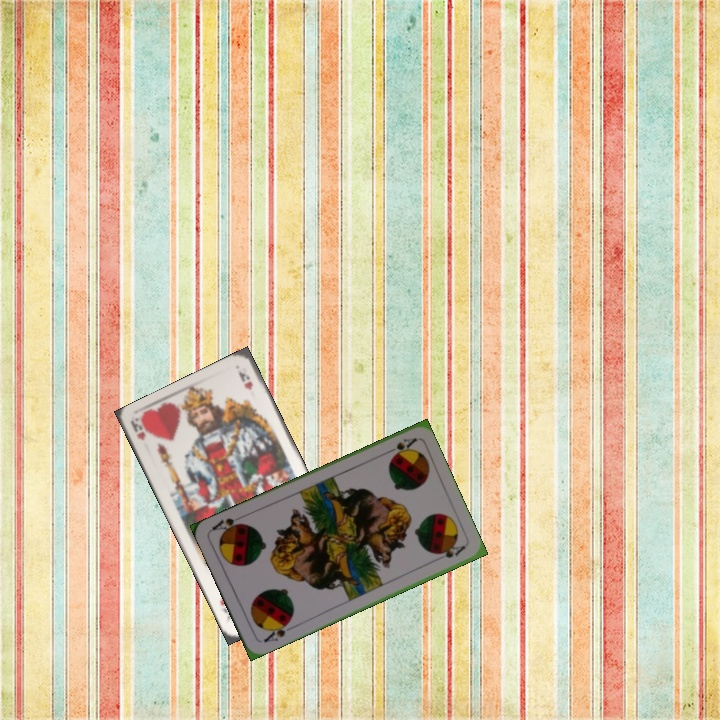HK: (127, 415, 149, 443)
SA: (259, 617, 296, 645), (380, 434, 419, 460)
